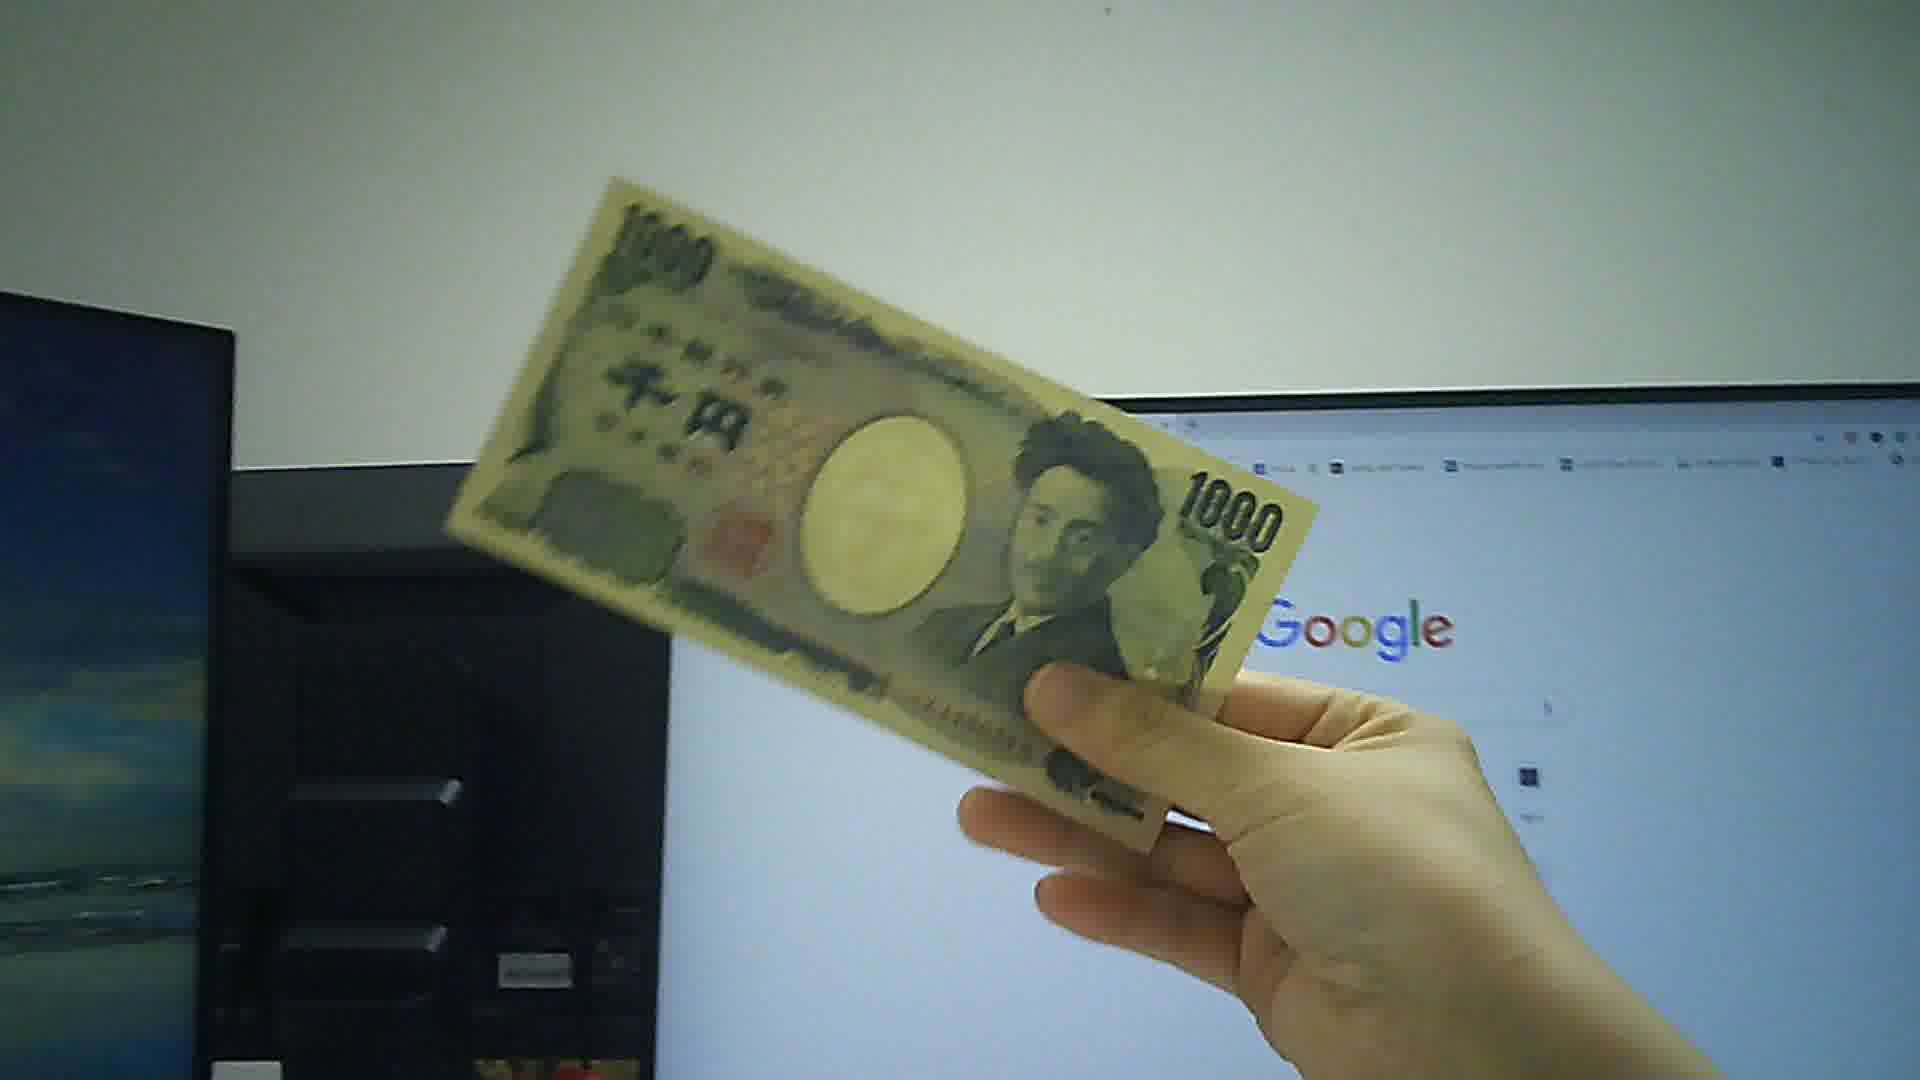1,000 Yen: (442, 181, 1333, 864)
